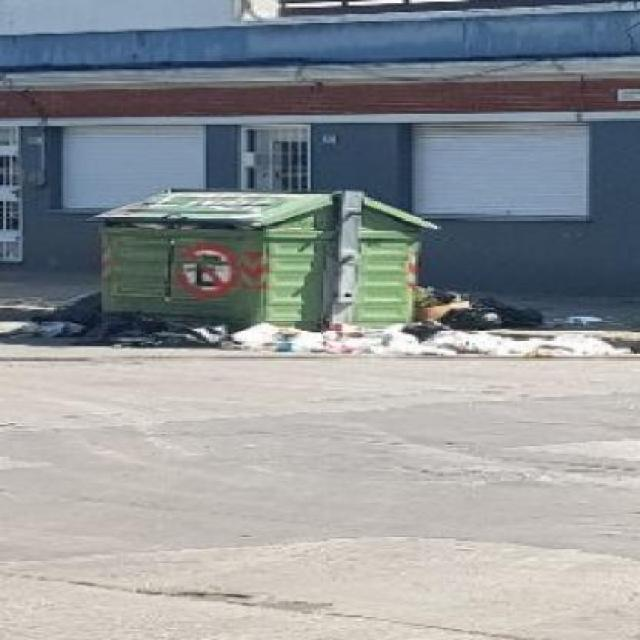garbage: (165, 314, 638, 369), (15, 303, 160, 340)
